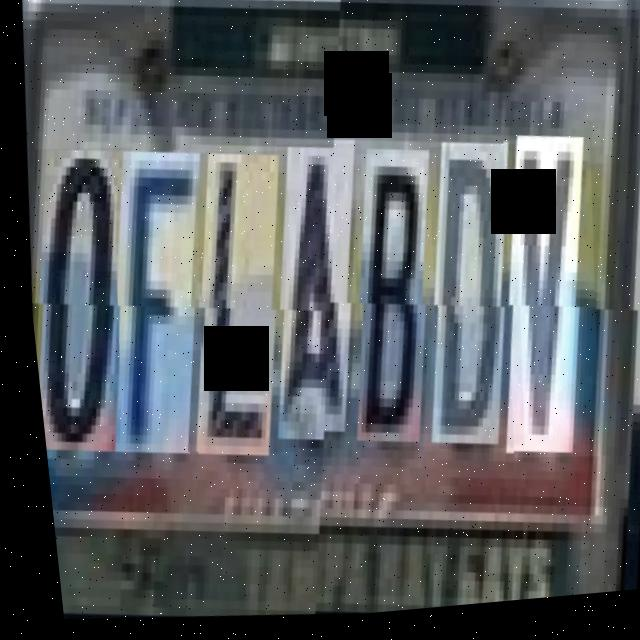A: (252, 144, 380, 448)
B: (330, 154, 455, 458)
D: (403, 148, 534, 462)
F: (88, 146, 228, 461)
L: (171, 149, 306, 462)
O: (12, 142, 153, 457)
V: (477, 143, 611, 473)
